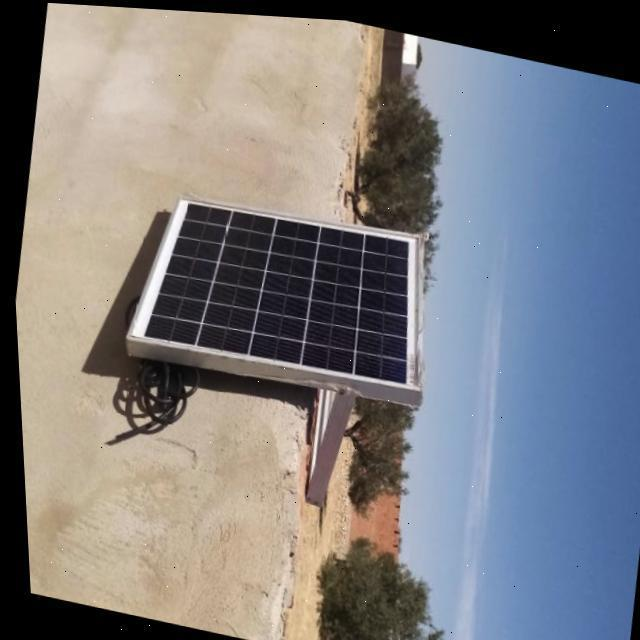Normal Solar Panel: (115, 177, 442, 396)
